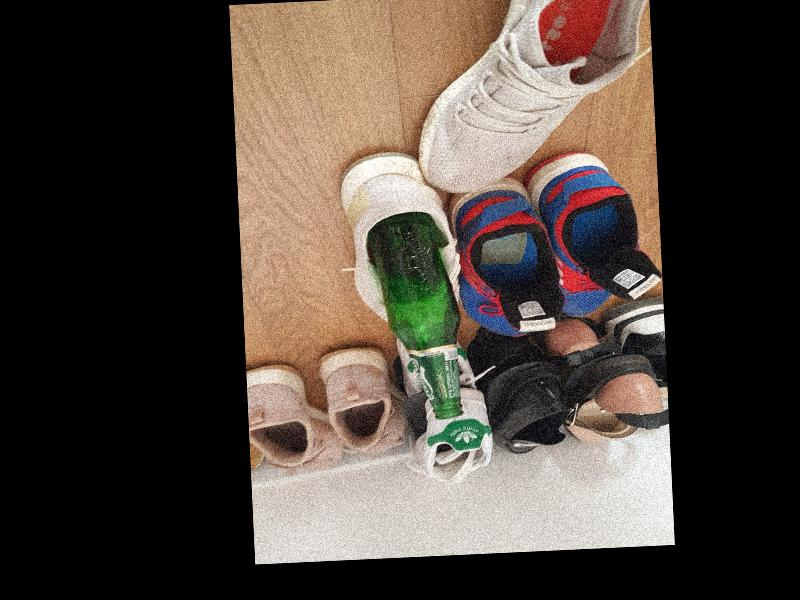Beer: (368, 210, 465, 420)
